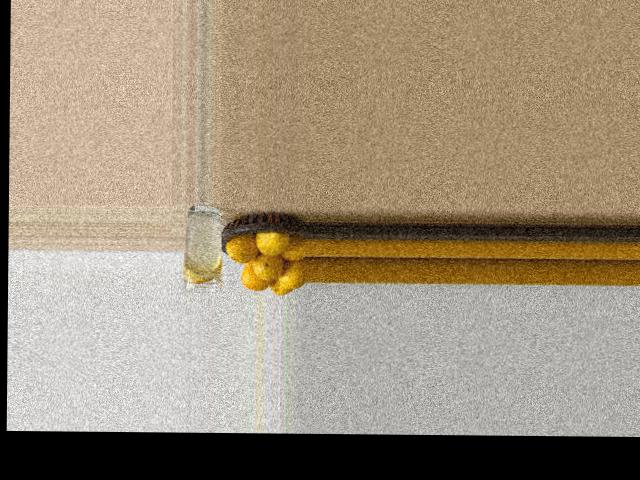lemon: (275, 256, 306, 292)
